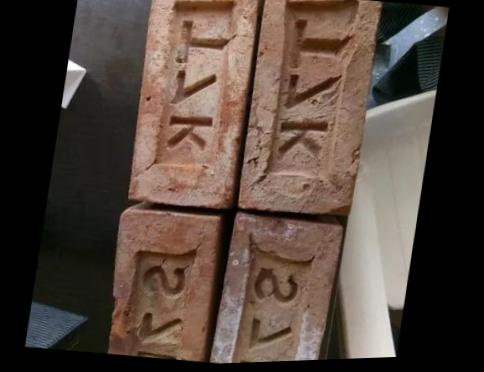brick: (235, 0, 379, 220), (121, 0, 260, 211), (207, 211, 345, 364), (101, 206, 221, 365)
